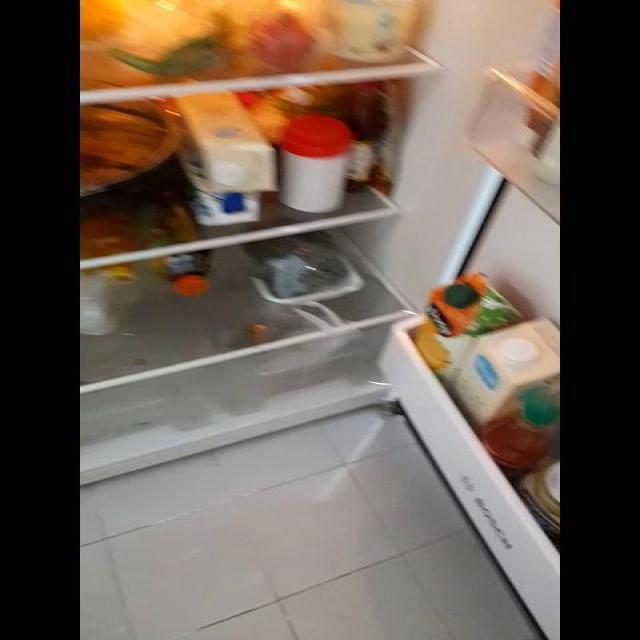broccoli: (251, 239, 356, 306)
green chilies: (128, 24, 239, 81)
juice: (423, 277, 468, 377)
milk: (165, 89, 278, 224), (476, 319, 552, 426)
tomato: (244, 13, 319, 64)
yoghurt: (323, 0, 424, 64)
